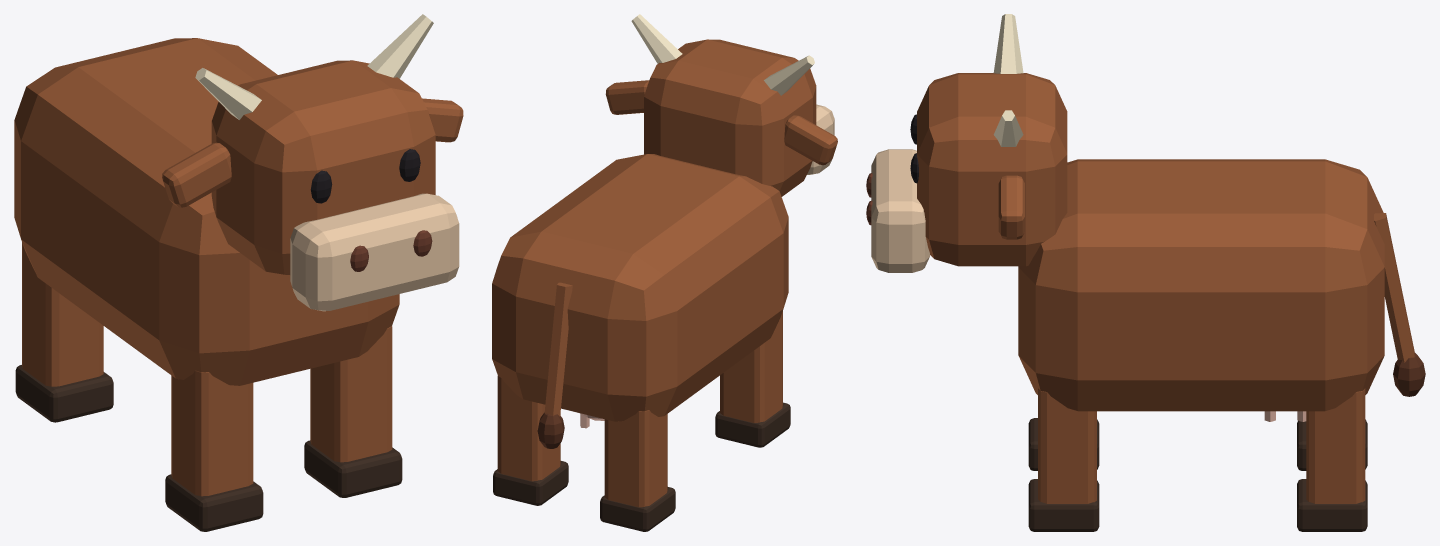
File: cow_brown.glb
3 renders of one model, left to right at view 1: azimuth 30°, elevation 25°; view 2: azimuth 150°, elevation 25°; view 3: azimuth 270°, elevation 25°, orthographic. The views are drawn at different scales.
Parts seen in each view (by area): view 1: body_mesh, head_mesh, leg_fr_mesh, leg_fl_mesh, leg_br_mesh, ear_r_mesh, ear_l_mesh; view 2: body_mesh, head_mesh, leg_br_mesh, leg_fr_mesh, leg_bl_mesh, tail_mesh, ear_r_mesh, ear_l_mesh; view 3: body_mesh, head_mesh, leg_bl_mesh, leg_fl_mesh, tail_mesh, ear_l_mesh, leg_fr_mesh.
Boxes of the visible parts, left/top/right/bottom form: body_mesh: left=14, top=38, right=399, bottom=385; head_mesh: left=195, top=14, right=459, bottom=311; leg_fr_mesh: left=165, top=370, right=263, bottom=531; leg_fl_mesh: left=304, top=326, right=402, bottom=497; leg_br_mesh: left=15, top=242, right=113, bottom=422; ear_r_mesh: left=162, top=142, right=231, bottom=207; ear_l_mesh: left=422, top=98, right=463, bottom=142; body_mesh: left=492, top=154, right=788, bottom=428; head_mesh: left=631, top=14, right=834, bottom=196; leg_br_mesh: left=600, top=410, right=675, bottom=531; leg_fr_mesh: left=715, top=311, right=790, bottom=447; leg_bl_mesh: left=493, top=376, right=568, bottom=505; tail_mesh: left=537, top=282, right=572, bottom=448; ear_r_mesh: left=784, top=115, right=837, bottom=165; ear_l_mesh: left=605, top=80, right=649, bottom=114; body_mesh: left=1018, top=159, right=1384, bottom=421; head_mesh: left=866, top=14, right=1067, bottom=272; leg_bl_mesh: left=1297, top=388, right=1367, bottom=531; leg_fl_mesh: left=1028, top=388, right=1099, bottom=531; tail_mesh: left=1374, top=213, right=1425, bottom=396; ear_l_mesh: left=998, top=175, right=1024, bottom=239; leg_fr_mesh: left=1028, top=418, right=1099, bottom=470.
Bounding box in the file's own units: 0.9294 × 1.44 × 1.71.
